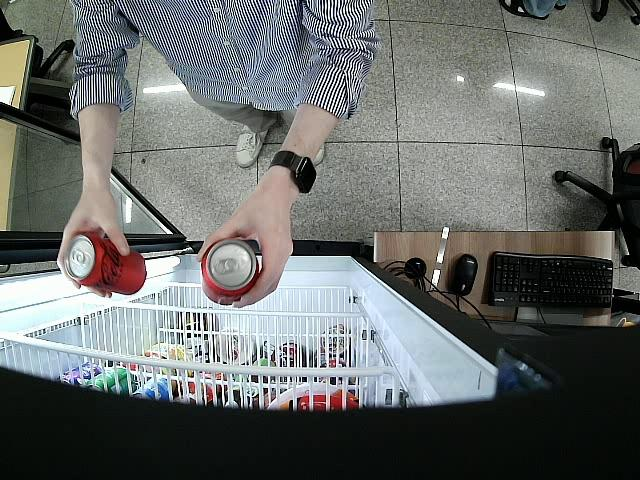00_hand: (196, 191, 295, 308), (57, 192, 130, 301)
11_cocaColaZero: (65, 230, 145, 297), (199, 240, 260, 307)
